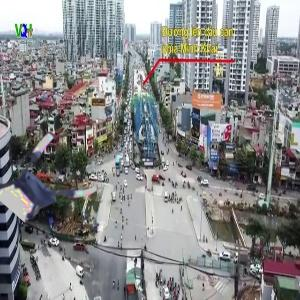drone: (5, 140, 95, 230)
